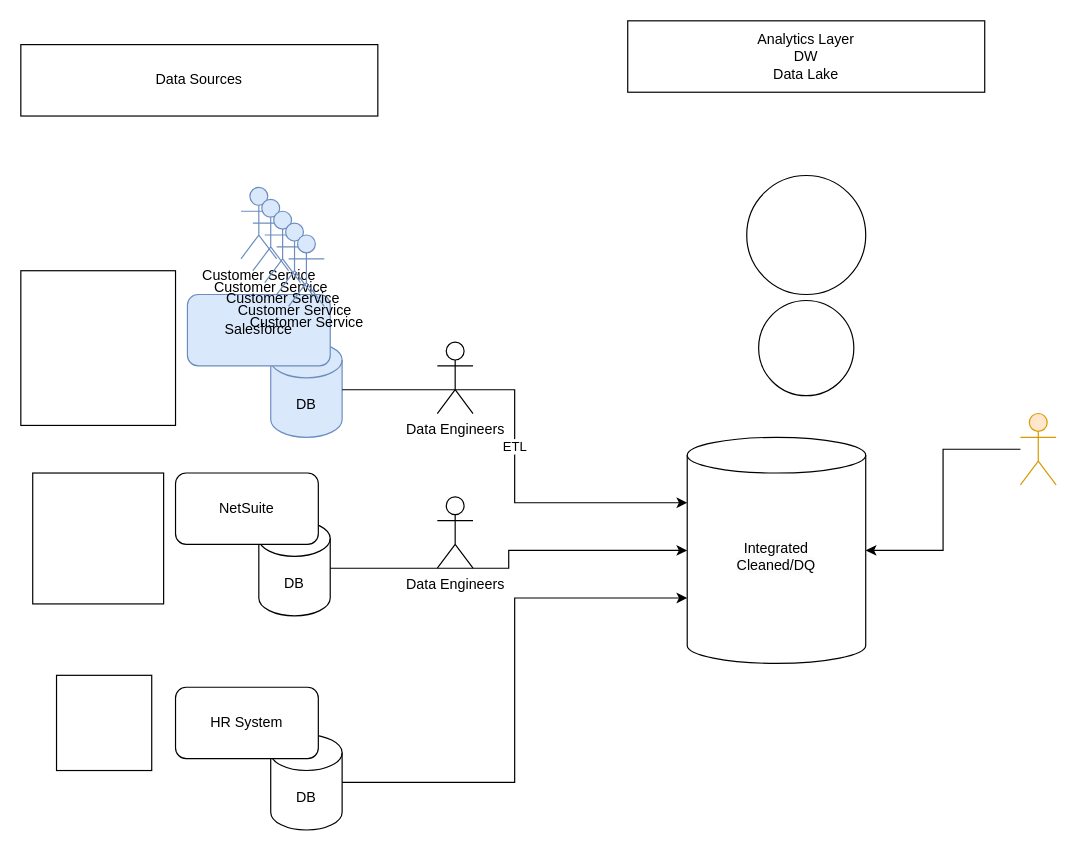
This 1092x851 diagram has some shape labels left out. Here are the shapes that lost their labels. From the top down, the box of each, then its label:
(746, 174, 866, 295): MDM Master Data Management
(20, 270, 176, 425): Tarek Atwan (STRING 100) Tarek A. A Tarek A. Atwan
(757, 299, 854, 396): DW
(1019, 412, 1056, 485): Consultant
(32, 472, 164, 604): Customer Info (STRING 200) Customer ADdress
(55, 674, 152, 771): EMployee
